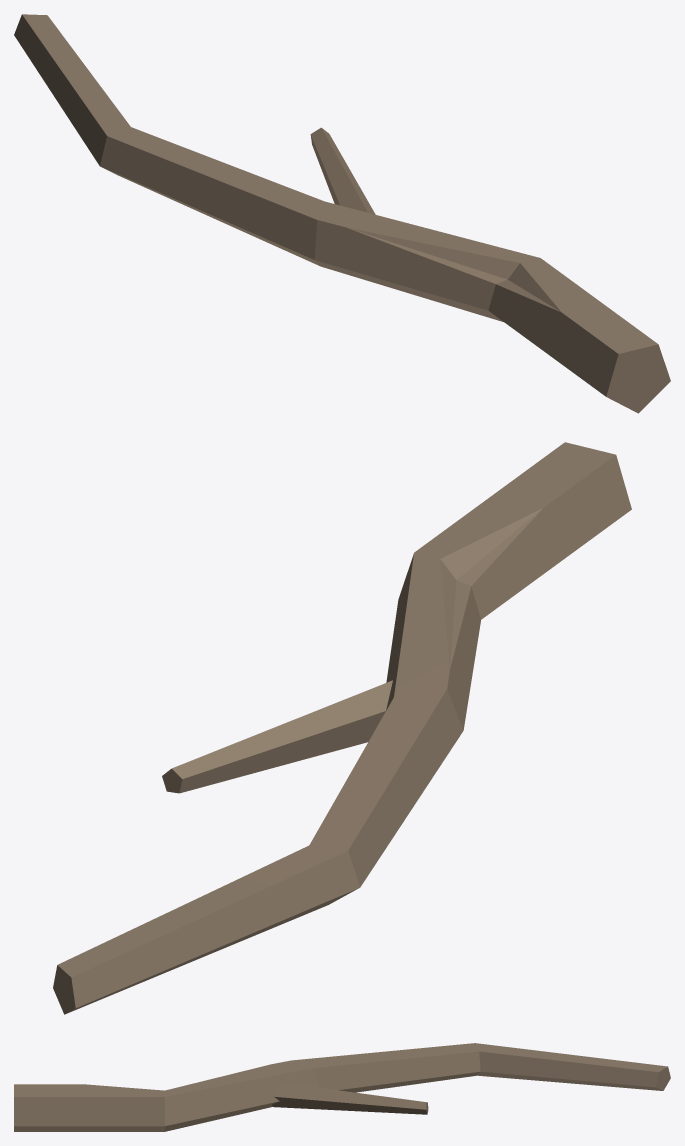
Rendered from Branch1.glb.
3 renders of one model, top to bottom at view 1: azimuth 30°, elevation 25°; view 2: azimuth 150°, elevation 25°; view 3: azimuth 270°, elevation 25°, orthographic. The views are drawn at different scales.
Parts seen in each view (by area): view 1: Branch; view 2: Branch; view 3: Branch.
Boxes of the visible parts, <box> form: Branch: <box>14,14,670,413</box>; Branch: <box>53,442,631,1014</box>; Branch: <box>14,1043,670,1131</box>.
Bounding box in the file's own units: 0.4644 × 0.1351 × 1.95.
Materials: 1 (1 with a texture image).
